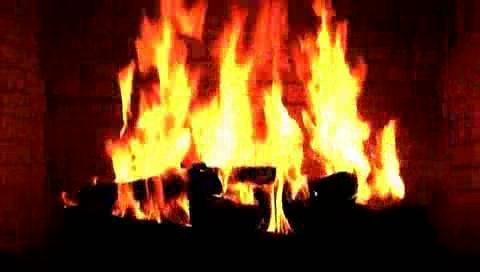fire: (104, 4, 423, 235)
